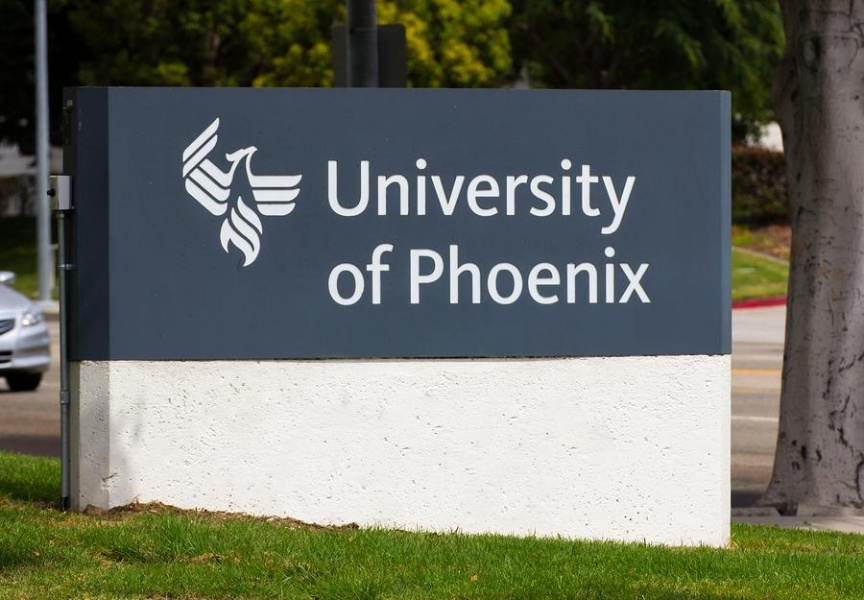text: (337, 156, 352, 237), (353, 156, 368, 237), (369, 156, 384, 237), (385, 156, 400, 237), (401, 156, 416, 237), (417, 156, 432, 237), (433, 156, 448, 237), (449, 156, 464, 237), (465, 156, 480, 237), (481, 156, 496, 237), (497, 156, 512, 237), (513, 156, 528, 237), (529, 156, 544, 237), (545, 156, 560, 237), (561, 156, 576, 237), (577, 156, 592, 237), (593, 156, 608, 237), (609, 156, 624, 237), (337, 243, 352, 308), (353, 243, 368, 308), (369, 243, 384, 308), (625, 156, 637, 237), (417, 243, 432, 305), (433, 243, 448, 305), (449, 243, 464, 305), (465, 243, 480, 305), (481, 243, 496, 305), (497, 243, 512, 305), (513, 243, 528, 305), (529, 243, 544, 305), (545, 243, 560, 305), (561, 243, 576, 305), (577, 243, 592, 305), (593, 243, 608, 305), (609, 243, 624, 305), (625, 243, 640, 305), (641, 243, 652, 305), (328, 156, 336, 237), (327, 243, 336, 308), (385, 243, 393, 308), (410, 243, 416, 305)
